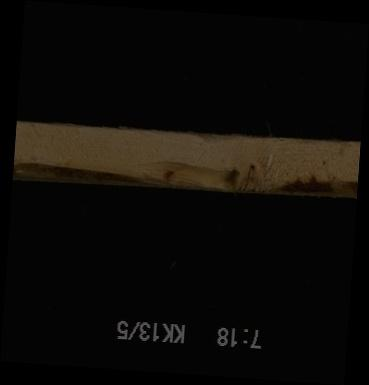wave: (12, 162, 356, 192)
